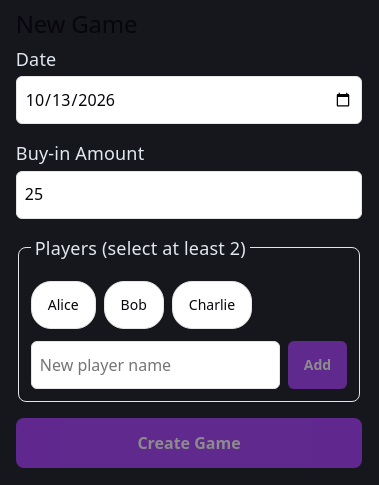
Test: GameCreateForm › add player creates and auto-selects new player
The image size is (379, 485).
Expected: the button "Alice" is shown, [31,281,96,329]
In the field with placeholder "New player name": (155, 365) [31,341,280,389], type "Diana"
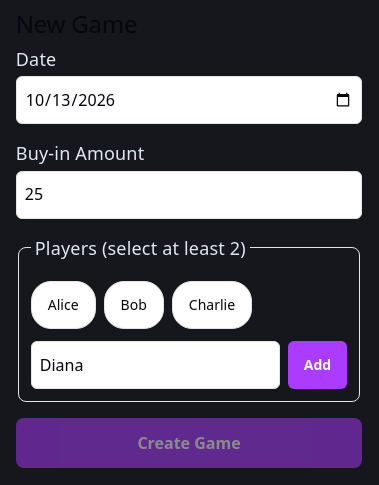
Click the button "Add": (318, 365) [288,341,347,389]
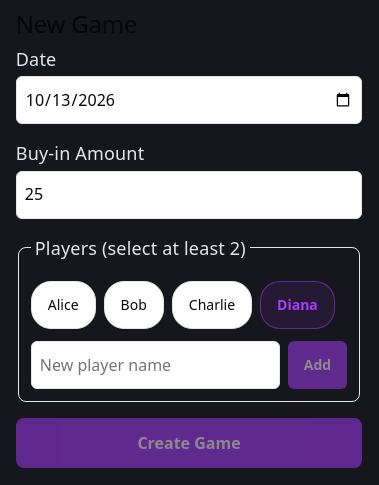
Now the button "Diana" is shown, box [260,281,335,329]
